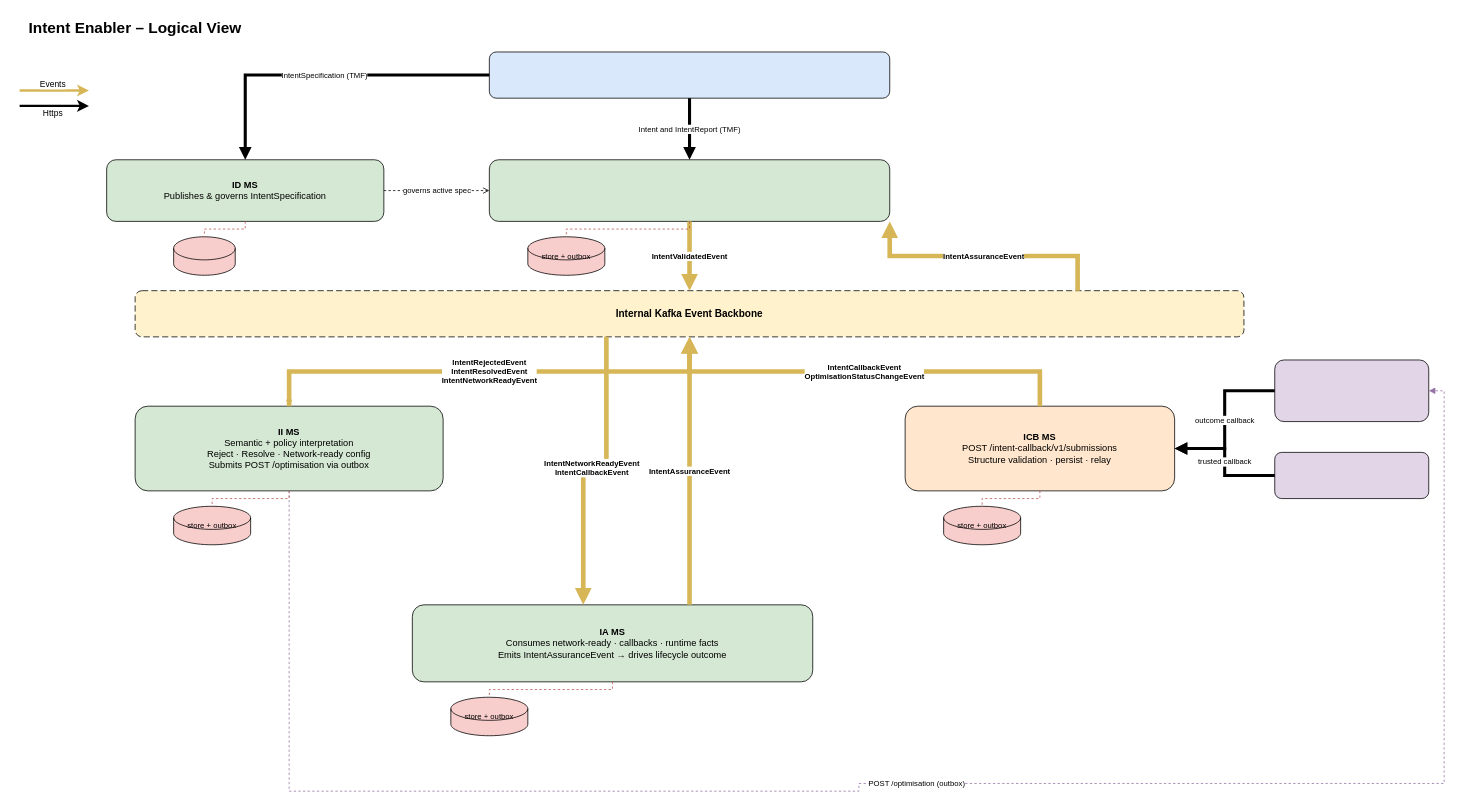
Image size: 1464x811. Some labels were removed from this diagram. The centre of each missing label's shape, as x and y in pixels:
"Change-Execution and Apply Systems" goes at [1351,475].
"External Consumer, OEX, or Authorised Platform" goes at [689,74].
"IC MS Admits Intent requests · owns Intent and IntentReport projection" goes at [689,190].
"Optimiser POST /optimisation" goes at [1351,390].
"store" goes at [204,255].
